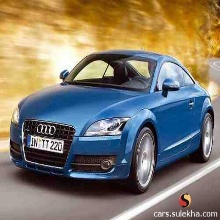no damage: (10, 49, 213, 192)
